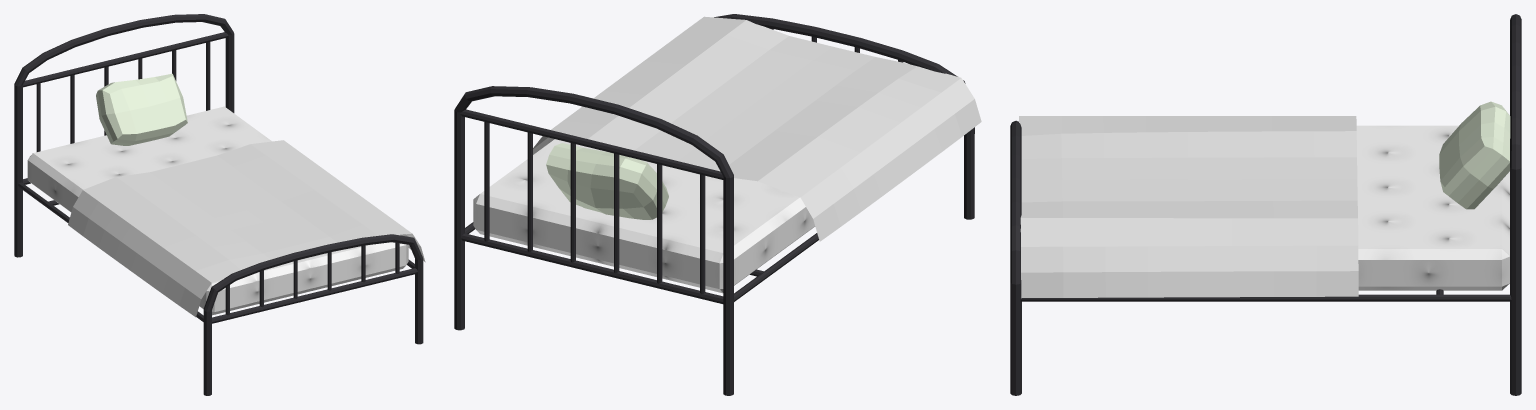
File: Cama_hospicio.fbx
3 renders of one model, left to right at view 1: azimuth 30°, elevation 25°; view 2: azimuth 150°, elevation 25°; view 3: azimuth 270°, elevation 25°, orthographic. The views are drawn at different scales.
Parts seen in each view (by area): view 1: Plane, Cube, Cube.007, Cube.003, Cube.001, Cube.005, Cube.008, Cube.004, Cube.006, Cube.002; view 2: Plane, Cube, Cube.003, Cube.007, Cube.004, Cube.001, Cube.005, Cube.002; view 3: Plane, Cube, Cube.007, Cube.003, Cube.001, Cube.002.
Boxes of the visible parts, x1,y1,x2,y2 form: Plane: (68, 140, 425, 317); Cube: (27, 106, 408, 315); Cube.007: (96, 73, 187, 145); Cube.003: (14, 14, 234, 257); Cube.001: (203, 234, 423, 395); Cube.005: (23, 32, 228, 87); Cube.008: (212, 268, 417, 323); Cube.004: (36, 42, 210, 151); Cube.006: (225, 243, 399, 315); Cube.002: (18, 182, 414, 321); Plane: (533, 16, 981, 241); Cube: (473, 139, 815, 293); Cube.003: (454, 86, 733, 395); Cube.007: (546, 143, 668, 219); Cube.004: (484, 122, 705, 294); Cube.001: (714, 14, 974, 219); Cube.005: (460, 109, 723, 179); Cube.002: (465, 222, 818, 301); Plane: (1019, 116, 1358, 298); Cube: (1356, 125, 1509, 290); Cube.007: (1439, 101, 1510, 209); Cube.003: (1510, 14, 1521, 395); Cube.001: (1010, 120, 1021, 395); Cube.002: (1020, 289, 1511, 301).
Size of the model in its own units: 139 by 117 by 199.
4 materials, 1 textured.
